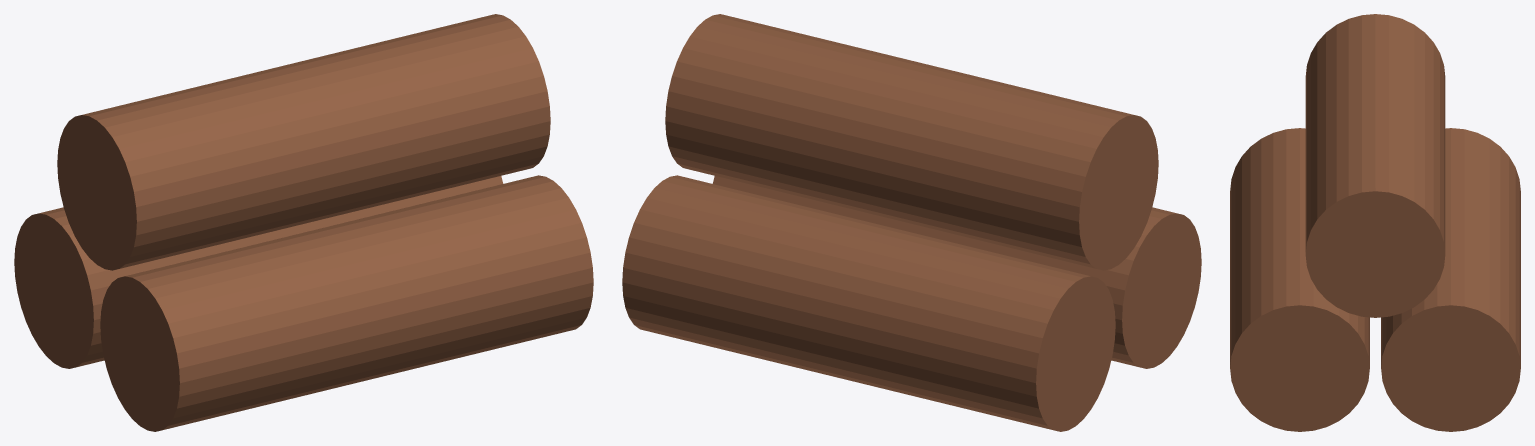
Rendered from Logs_Pickup.fbx.
The picture shows the model from 3 angles, left to right: view 1: azimuth 30°, elevation 25°; view 2: azimuth 150°, elevation 25°; view 3: azimuth 270°, elevation 25°; orthographic projection. The views are drawn at different scales.
Visible parts, largest first — view 1: Cylinder; view 2: Cylinder; view 3: Cylinder.
Boxes of the visible parts, box(x1,y1,x2,y2) form: Cylinder: box(14, 14, 593, 431); Cylinder: box(622, 14, 1201, 431); Cylinder: box(1230, 14, 1520, 431).
Size of the model in its own units: 300 by 190 by 208.
